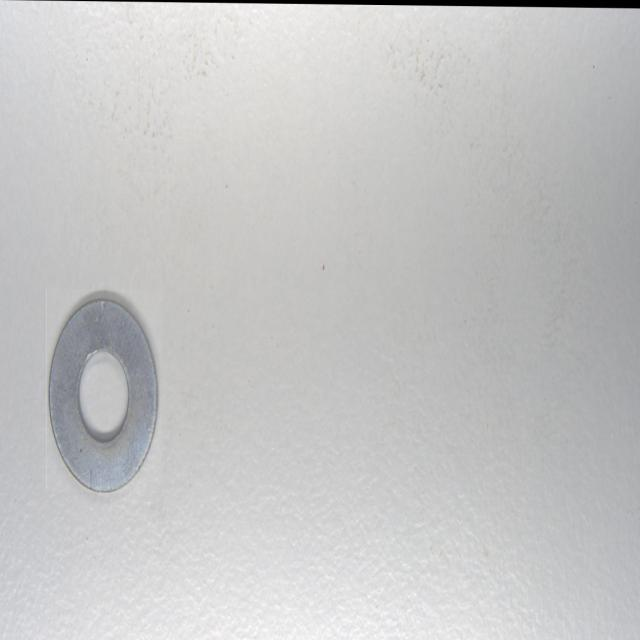washer: (46, 289, 162, 492)
